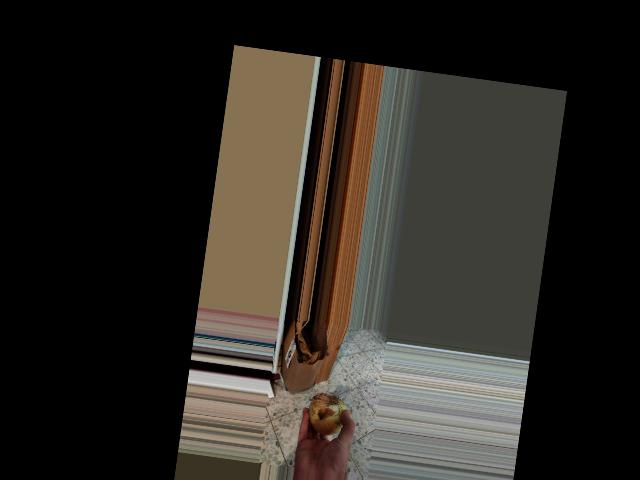onion: (304, 391, 355, 441)
